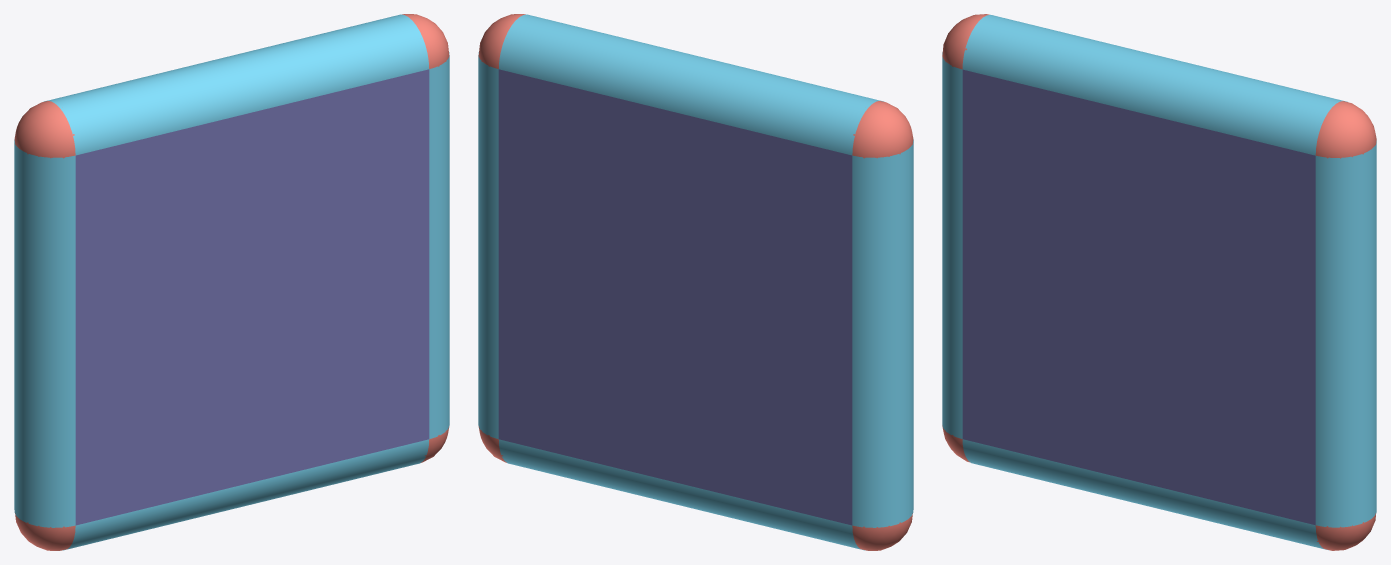
Rendered from MatTool_Pad.fbx.
3 renders of one model, left to right at view 1: azimuth 30°, elevation 25°; view 2: azimuth 150°, elevation 25°; view 3: azimuth 330°, elevation 25°, orthographic.
Visible parts, largest first — view 1: Slab:0; view 2: Slab:0; view 3: Slab:0.
Part boxes in pixels (left/top/right/bottom): Slab:0: left=14, top=14, right=449, bottom=550; Slab:0: left=478, top=14, right=913, bottom=550; Slab:0: left=942, top=14, right=1376, bottom=550.
Size of the model in its own units: 120 by 120 by 20.
